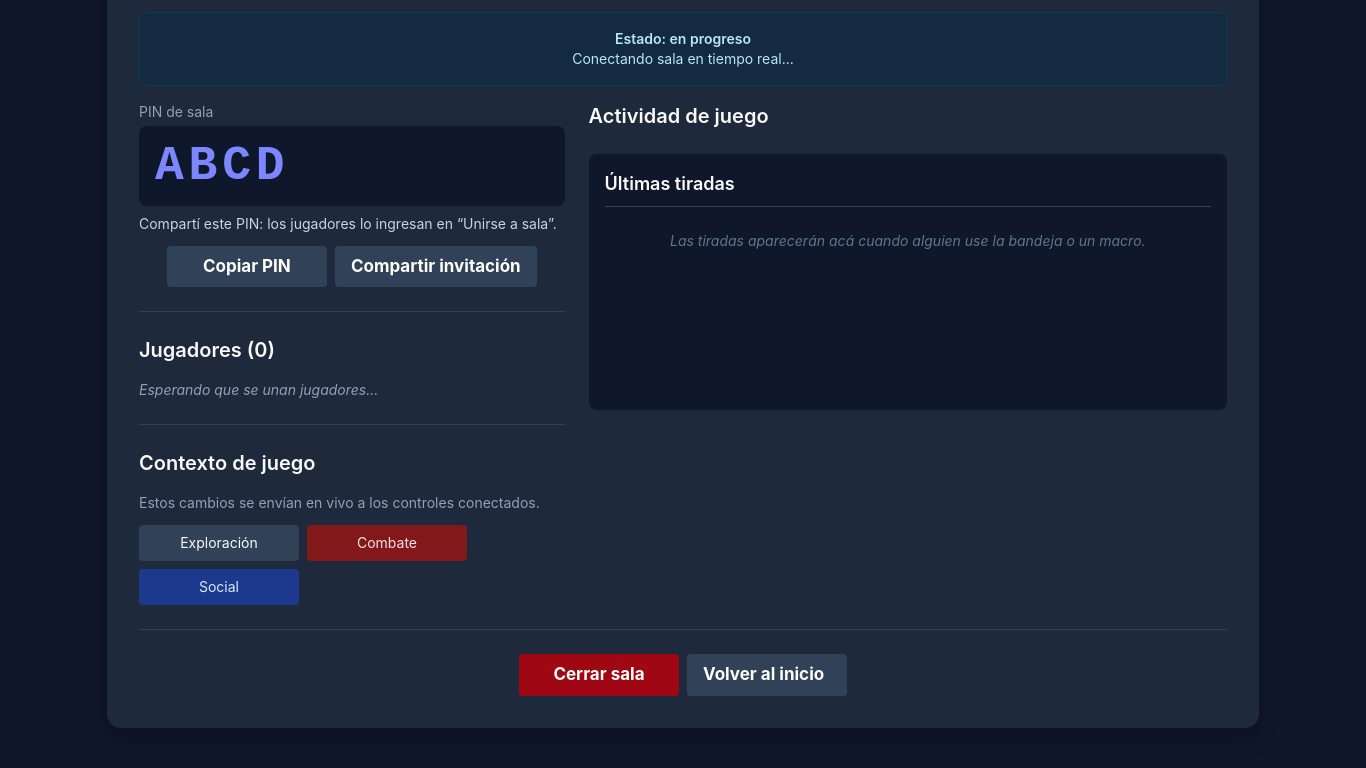
Supabase integration lifecycle in HostView › closes the hosted room without signing out identity
The image size is (1366, 768).
(page scrolled)
Click the button "Cerrar sala" at (599, 675), box [519,654,679,696]
(page scrolled)
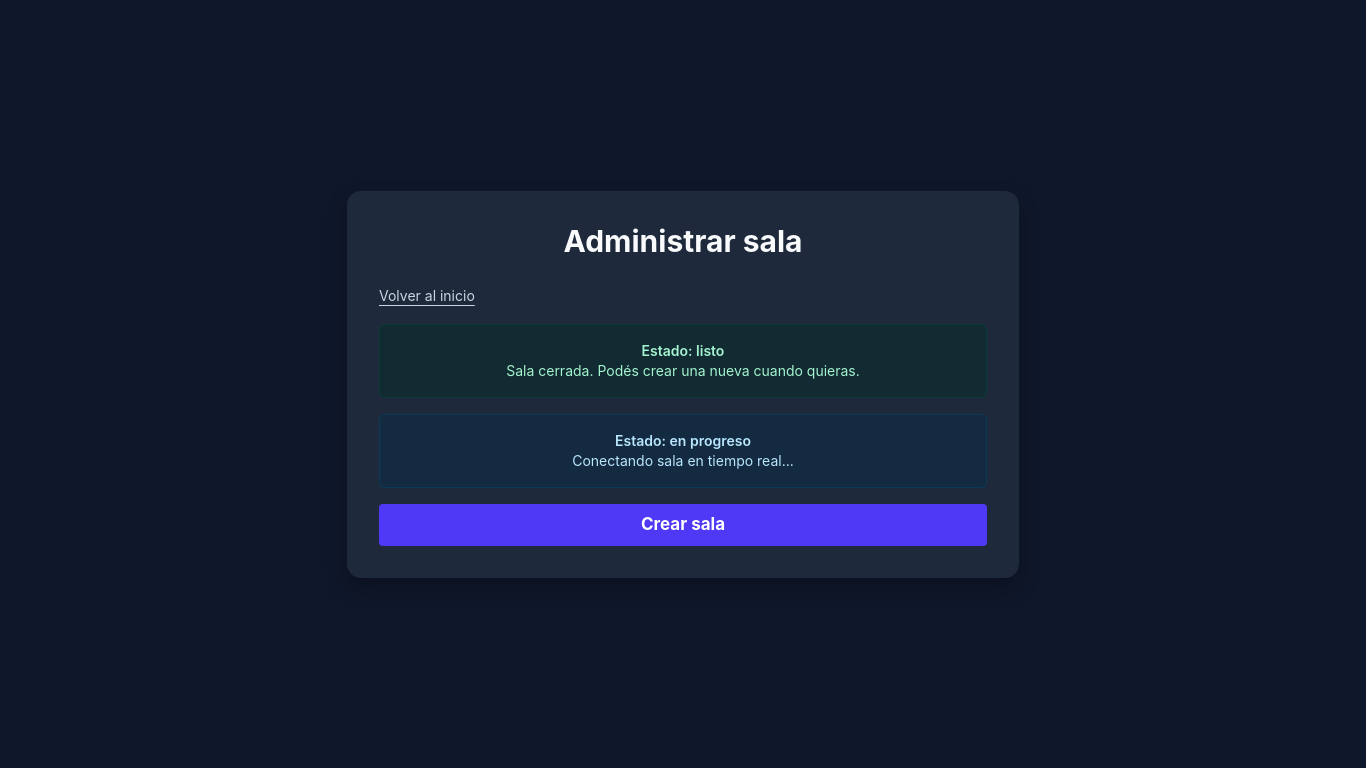
Check: the button "Crear sala" is shown, box [379,504,987,546]
